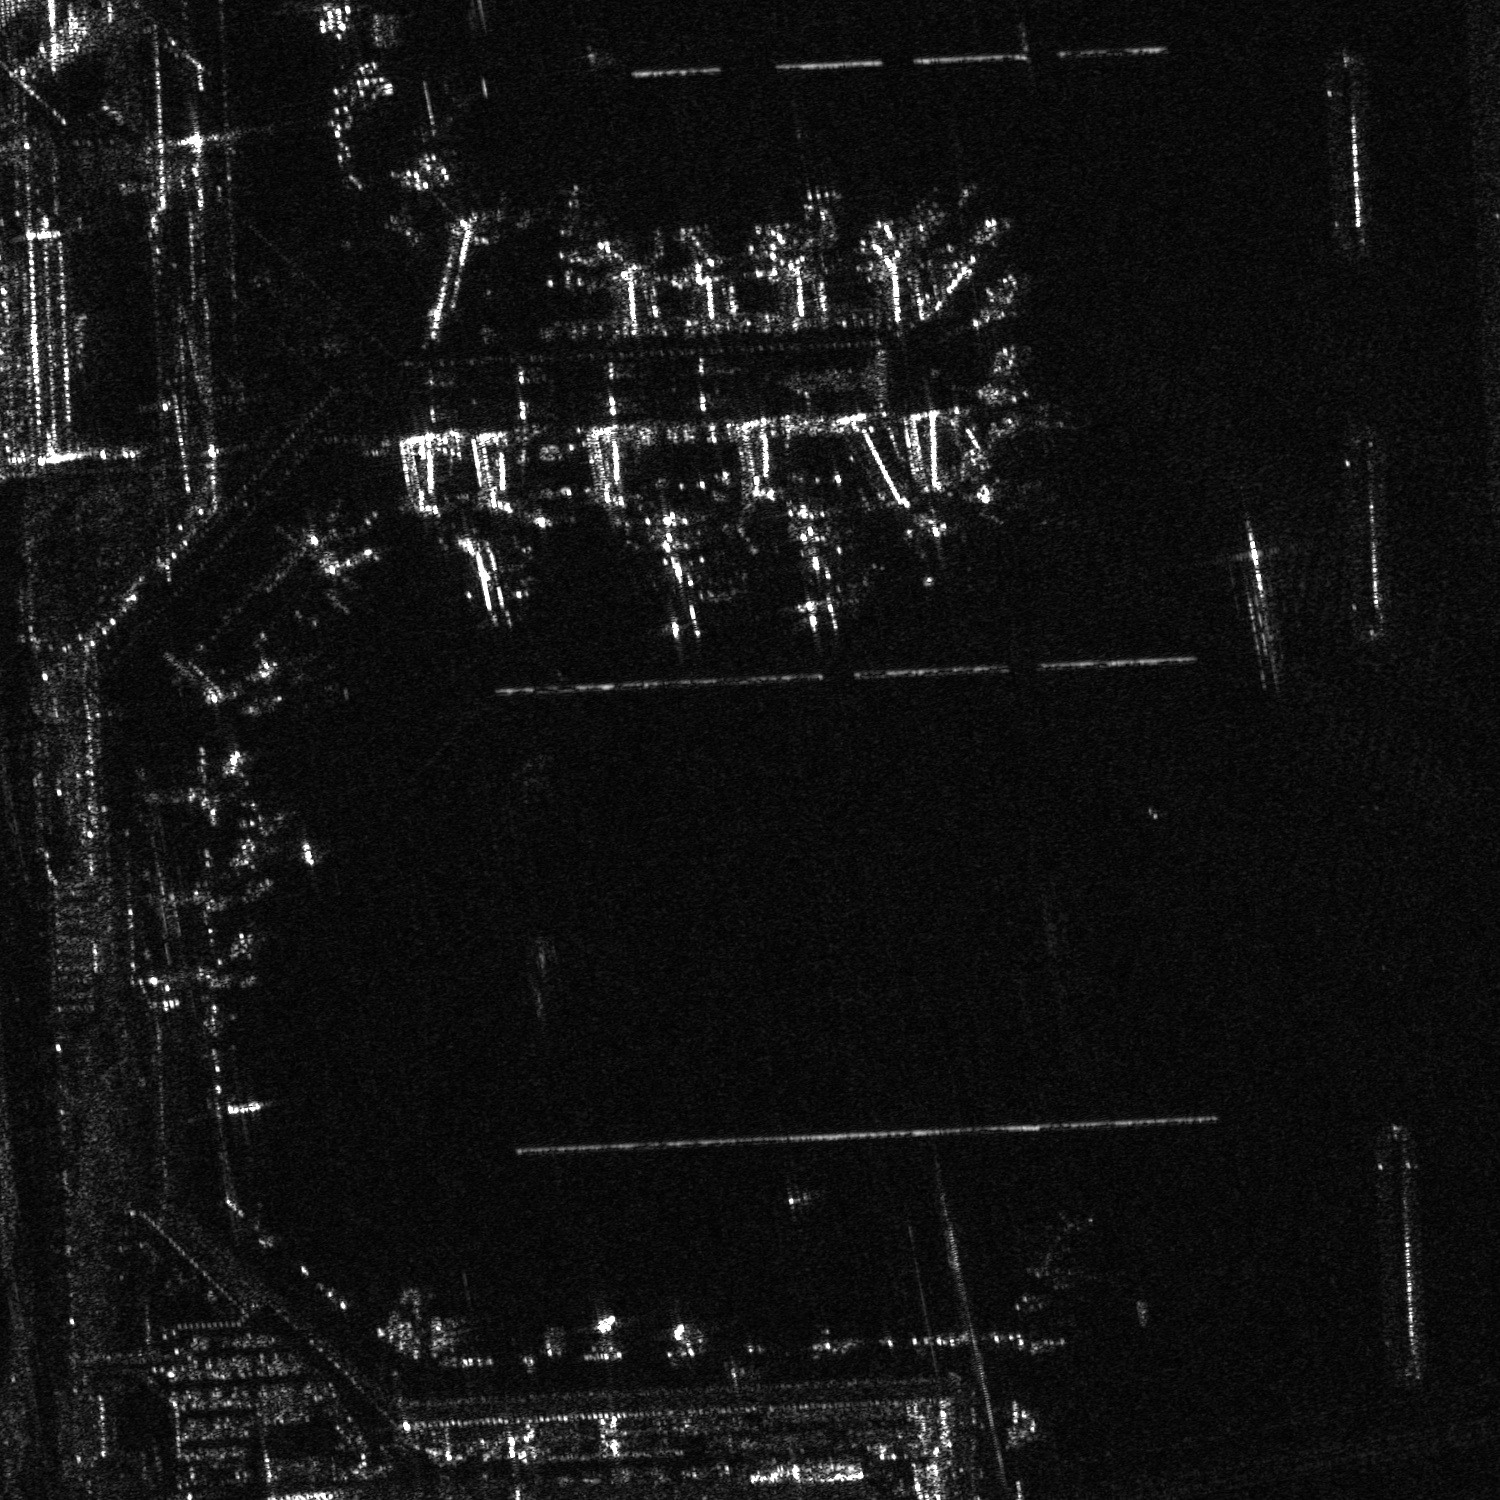A320/321: (984, 1201, 1115, 1326)
Boeing737: (449, 521, 527, 626), (896, 503, 964, 592)
Boeing787: (646, 527, 729, 648)
other: (777, 521, 865, 637)
